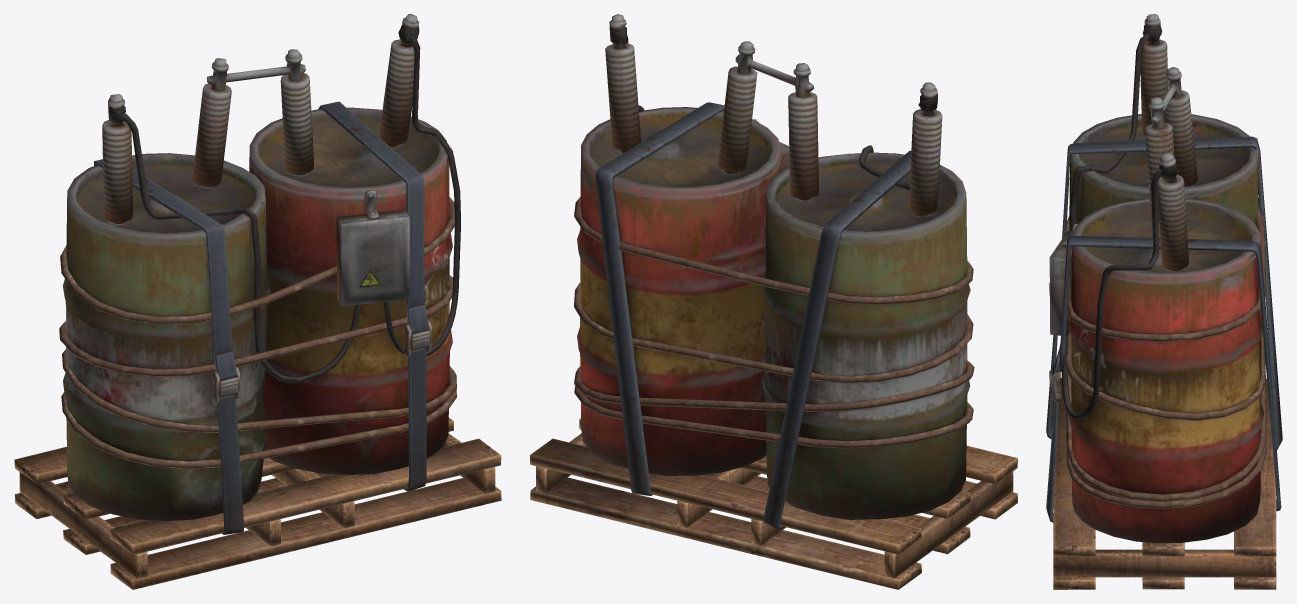
File: batterycelltier1.glb
3 views of the same model, side by side, from view 1: azimuth 30°, elevation 25°; view 2: azimuth 150°, elevation 25°; view 3: azimuth 270°, elevation 25° (orthographic). The views are drawn at different scales.
Parts seen in each view (by area): view 1: BatteryCellTier1; view 2: BatteryCellTier1; view 3: BatteryCellTier1.
Part boxes in pixels (x1,y1,x2,y2): BatteryCellTier1: (14, 14, 501, 589); BatteryCellTier1: (530, 14, 1017, 589); BatteryCellTier1: (1046, 14, 1282, 589).
Bounding box in the file's own units: 1.53 × 1.76 × 0.8945.
1 material, 1 textured.
